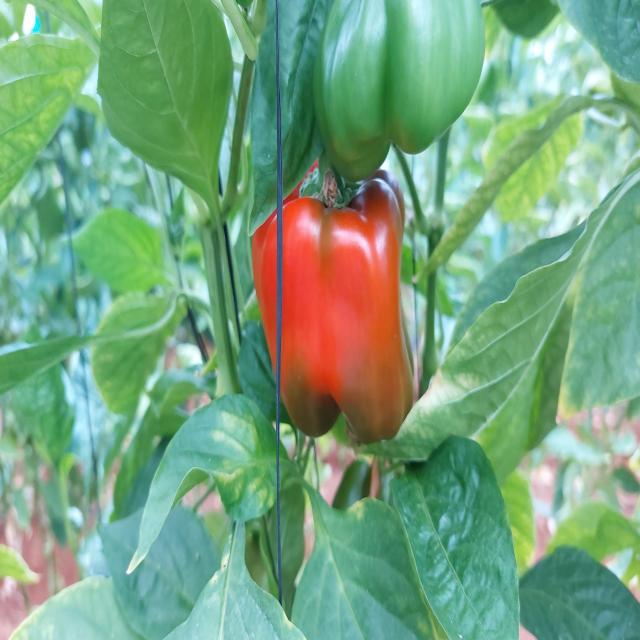Green--Not-ready-to-harvest: (318, 15, 500, 150)
Red-Ready-to-Harvest: (242, 204, 432, 460)
